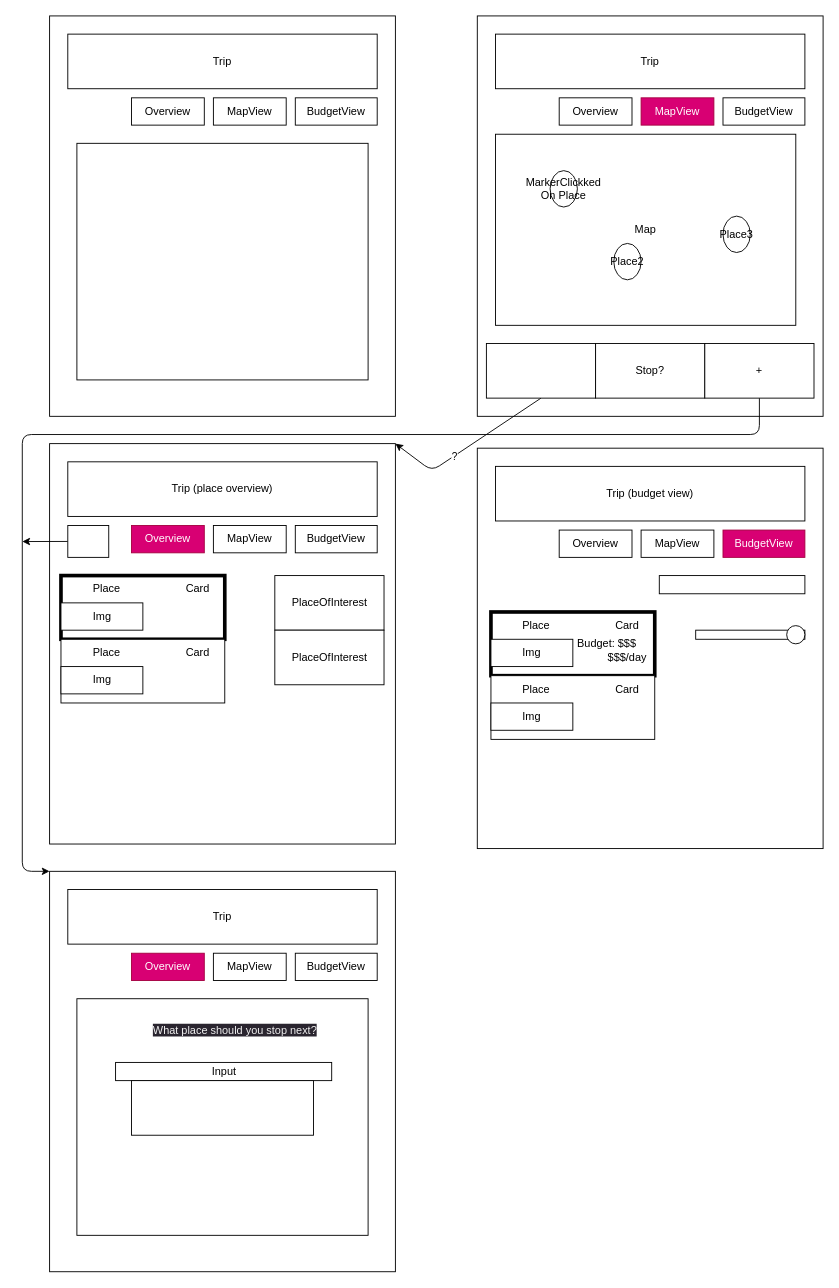
The diagram is 839 pixels wide and 1288 high, and some of its shapes have lost their labels. The shapes that lost their labels are listed below. From the top down, each one's centre as x and y in pixels, then its label:
At (x=222, y=261): "Content".
At (x=540, y=370): "PlaceOfInterest?".
At (x=88, y=541): "+ (Place)".
At (x=731, y=584): "Global budget $".
At (x=222, y=1107): "aut complete".
